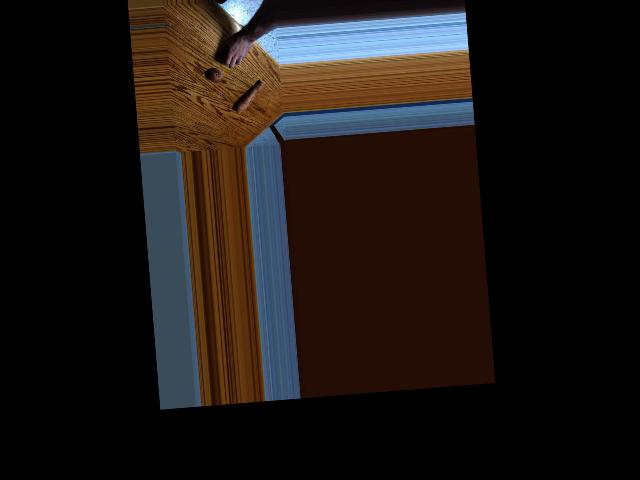onion: (219, 48, 233, 63)
